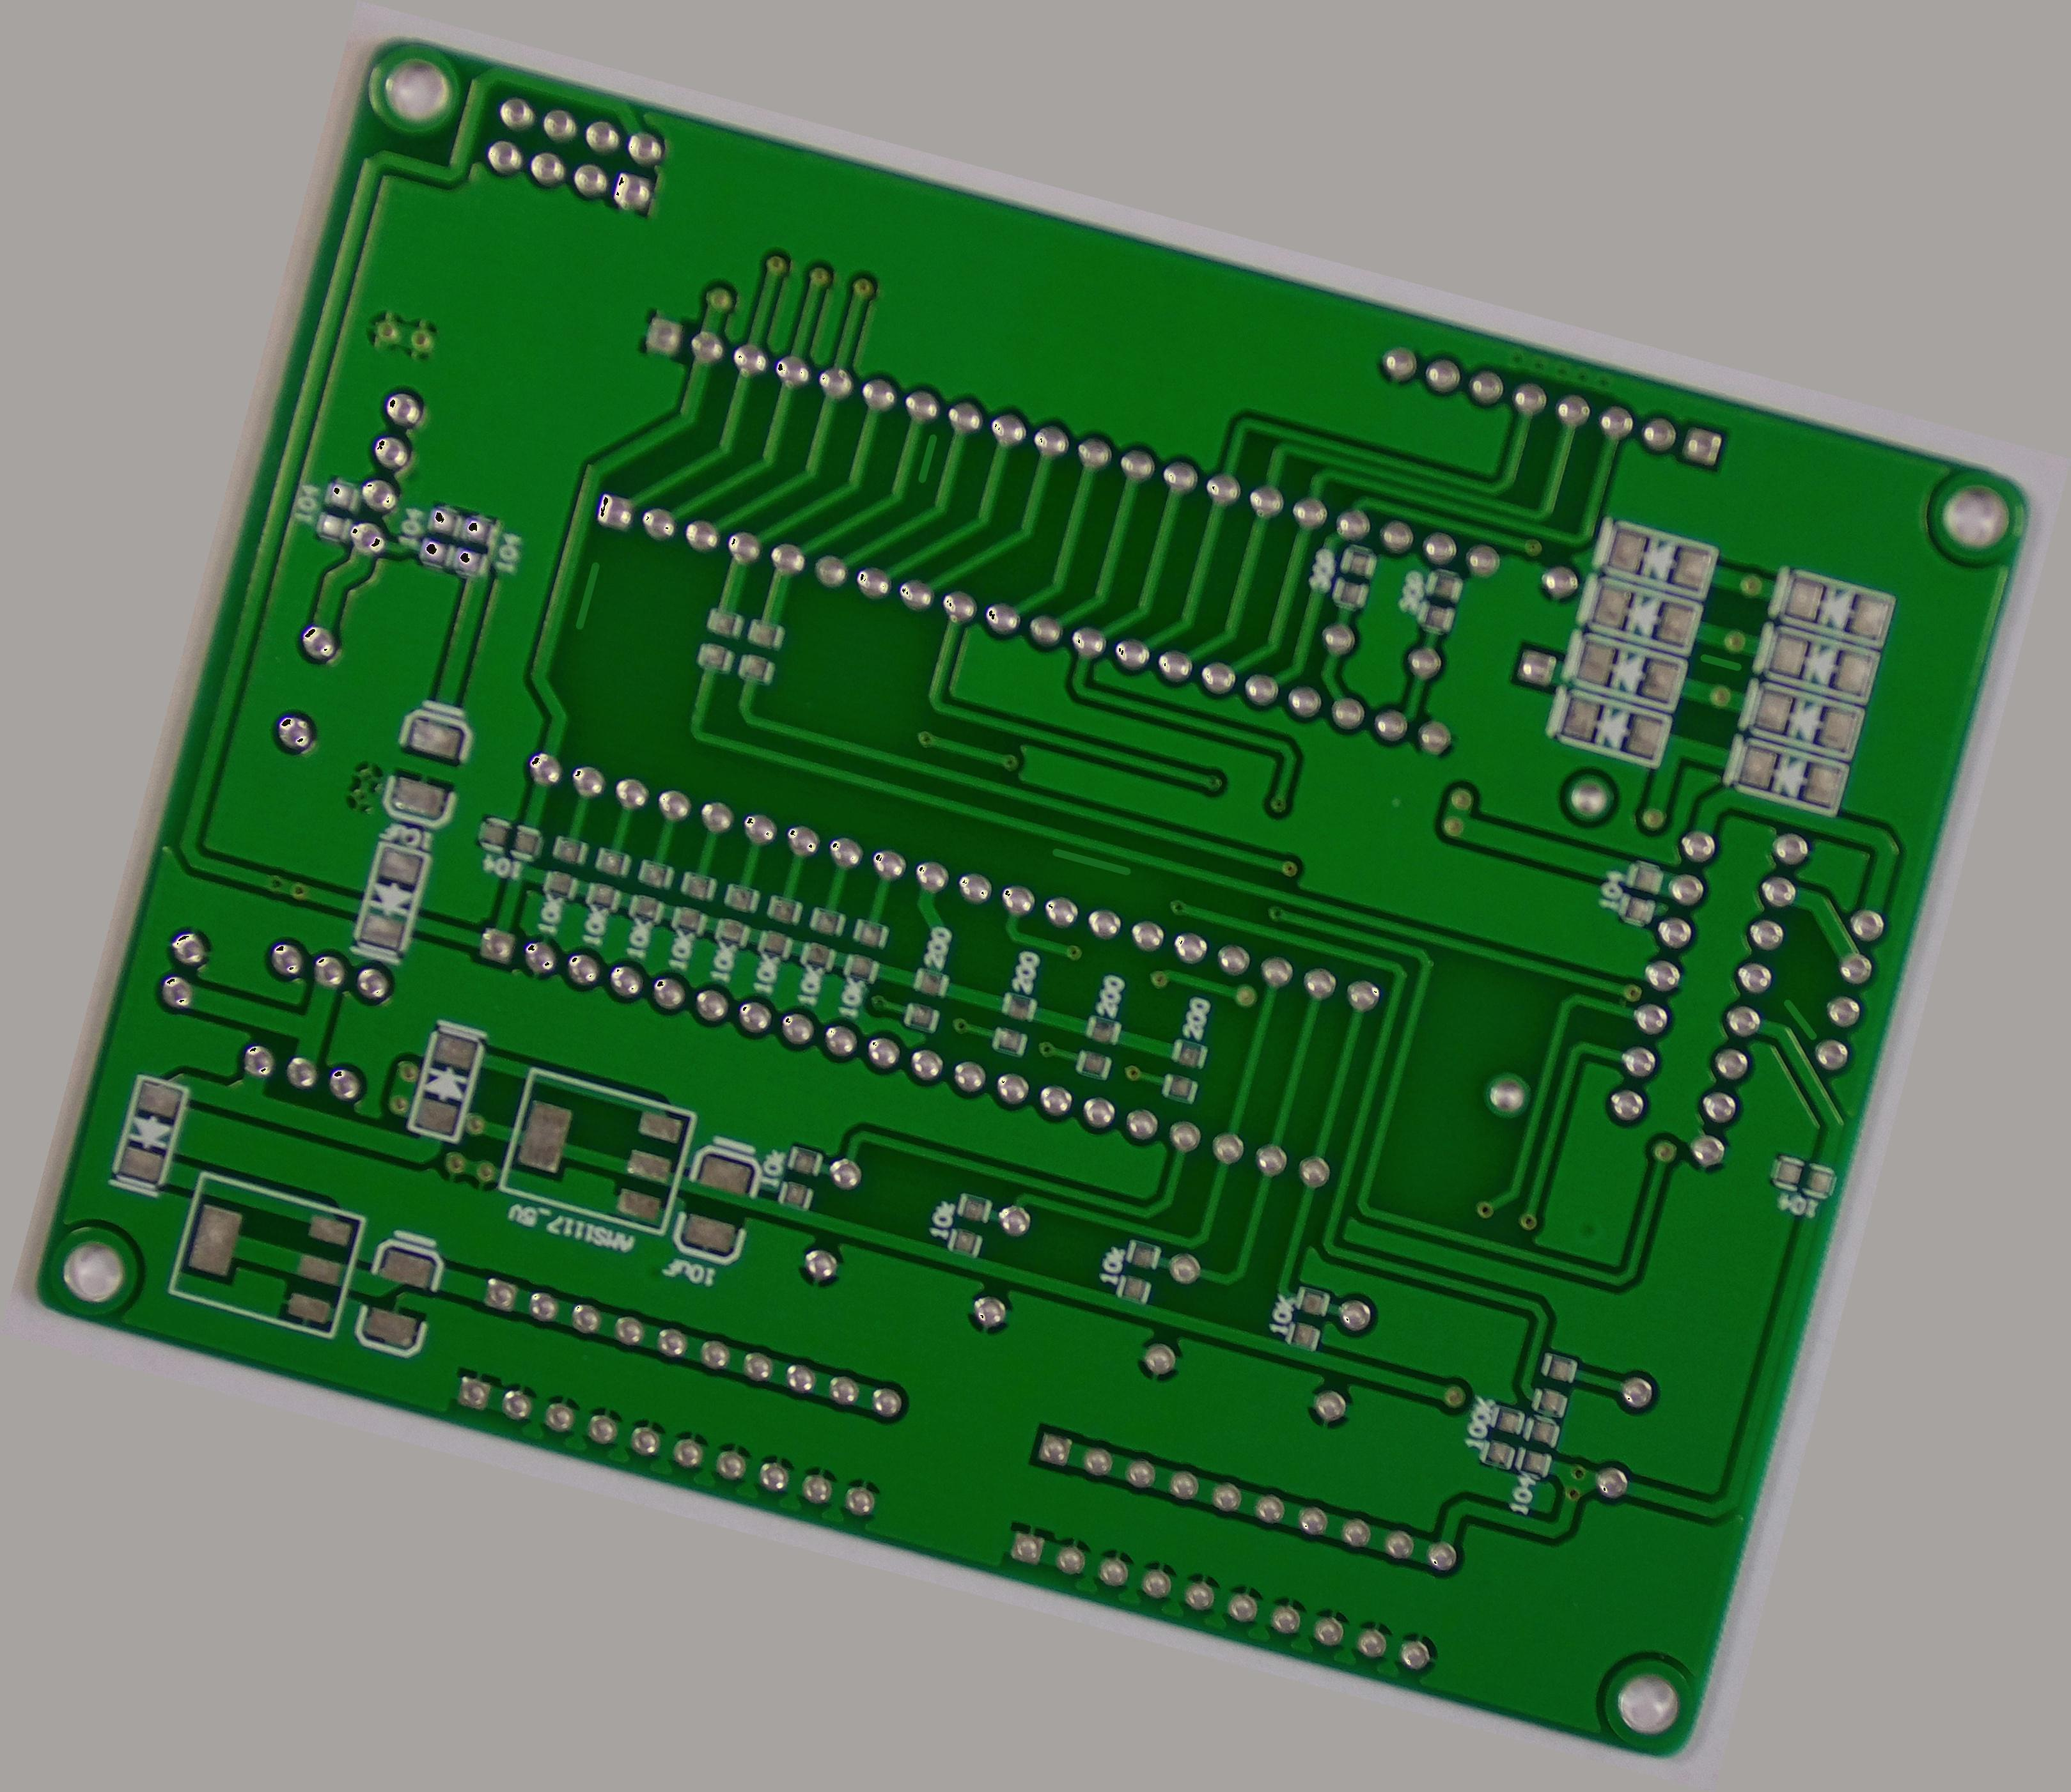spurious_copper: (1039, 833, 1139, 889), (558, 549, 616, 641), (1763, 988, 1828, 1047), (902, 422, 951, 491), (1687, 637, 1758, 685)
